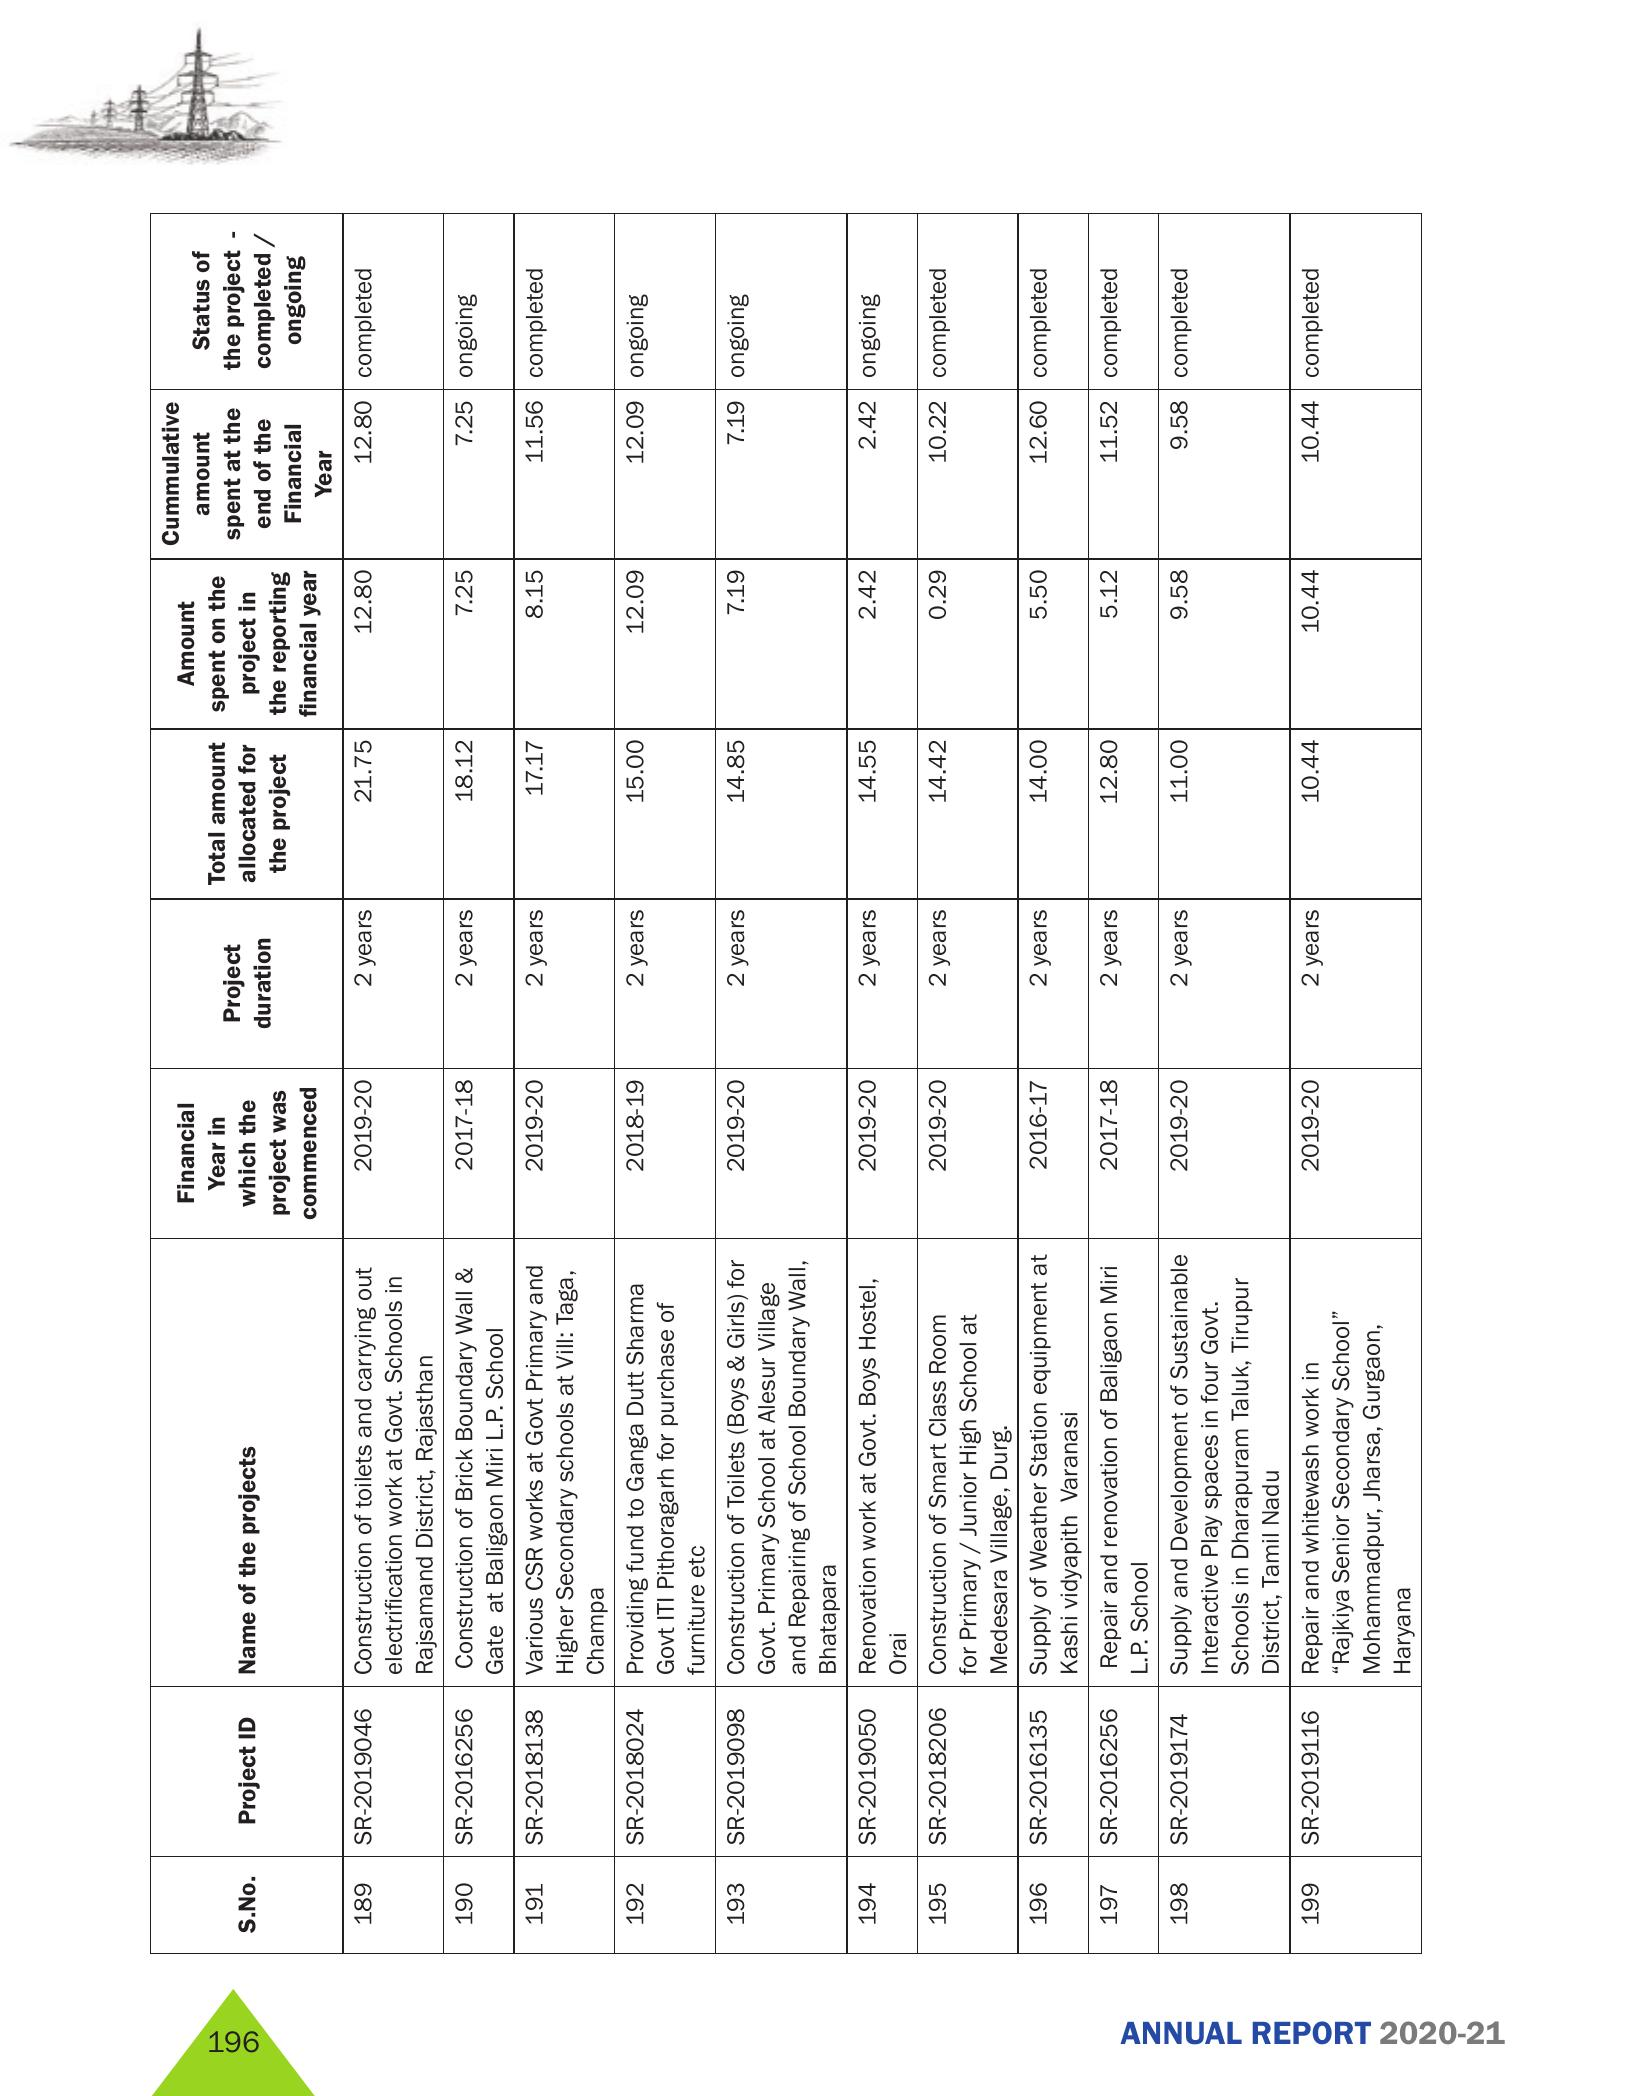Footer: (0, 1982, 1650, 2096)
Header: (0, 0, 1650, 180)
Table: (117, 201, 1458, 1979)
